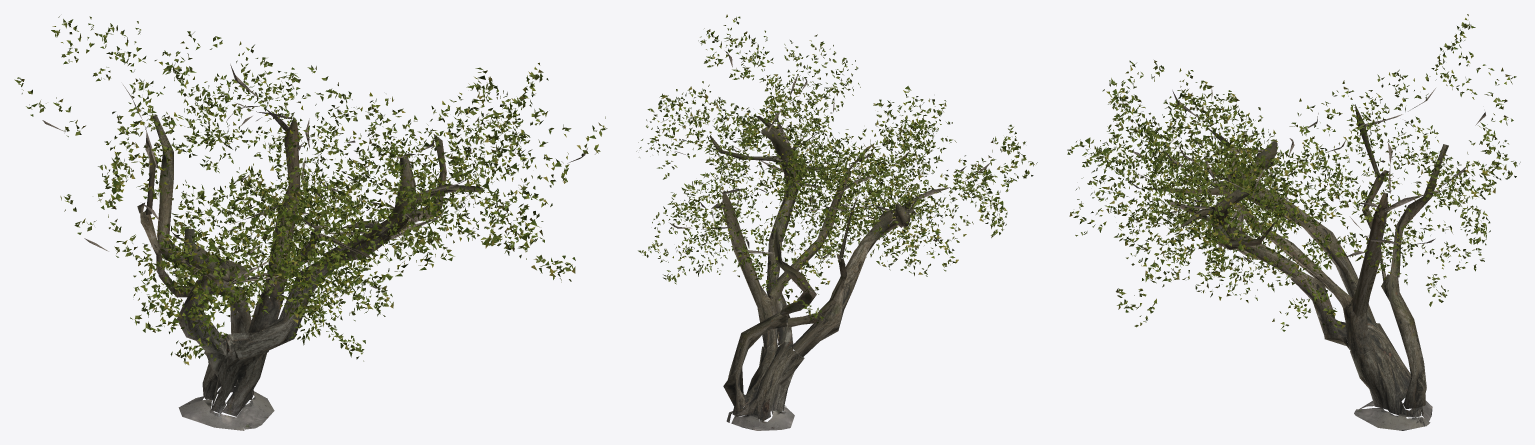
File: island_tree_02_lod2.glb
3 views of the same model, side by side, from view 1: azimuth 30°, elevation 25°; view 2: azimuth 150°, elevation 25°; view 3: azimuth 270°, elevation 25° (orthographic). The views are drawn at different scales.
Visible parts, largest first — view 1: island_tree_02_LOD2; view 2: island_tree_02_LOD2; view 3: island_tree_02_LOD2.
Boxes of the visible parts, bbox=[...] form: island_tree_02_LOD2: bbox=[14, 16, 607, 430]; island_tree_02_LOD2: bbox=[636, 14, 1037, 430]; island_tree_02_LOD2: bbox=[1067, 14, 1520, 430].
Size of the model in its own units: 3.83 by 3.4 by 4.05.
Materials: 3 (3 with a texture image).
